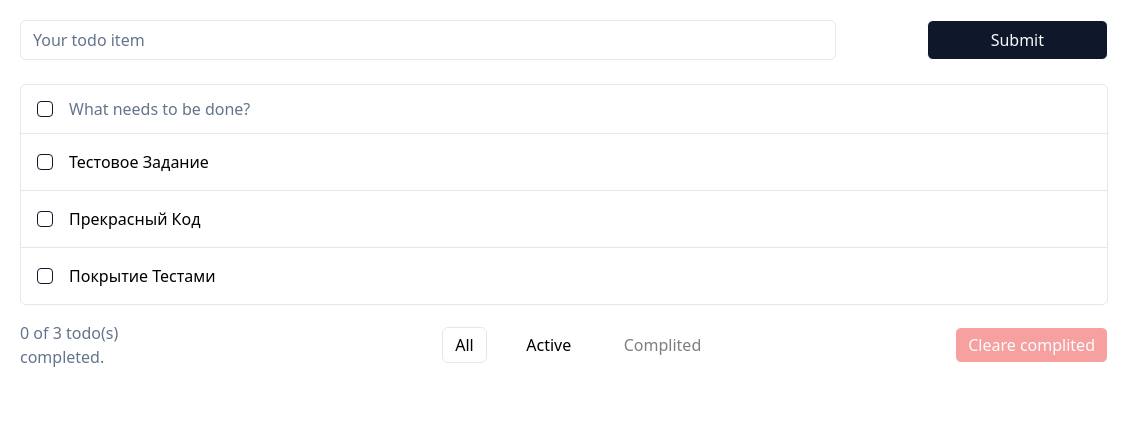
Test: Todo App › Проверка отображения новай задачи
Type "Новая задача" into the field with placeholder "Your todo item".
click(428, 40); type("Новая задача")  # box [20,20,836,60]
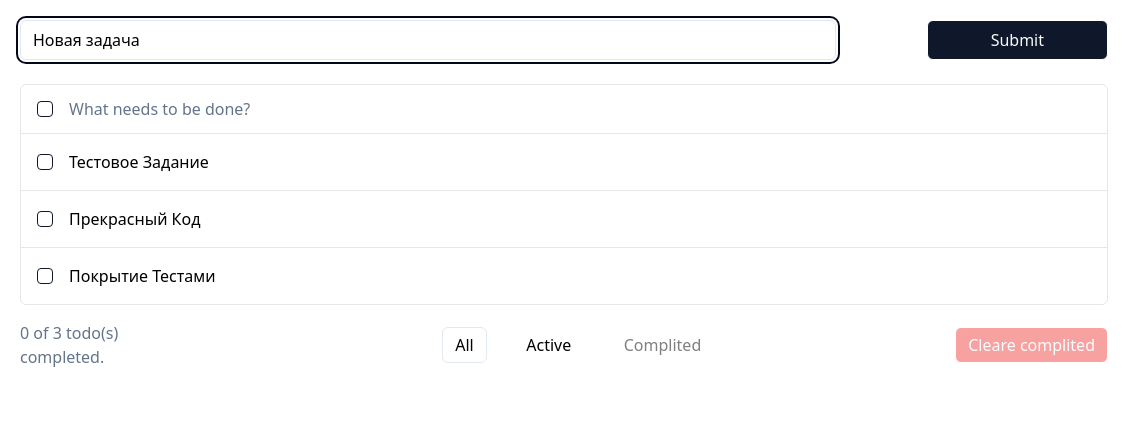
Click the button "Submit".
click(1017, 40)  # box [927,20,1108,60]
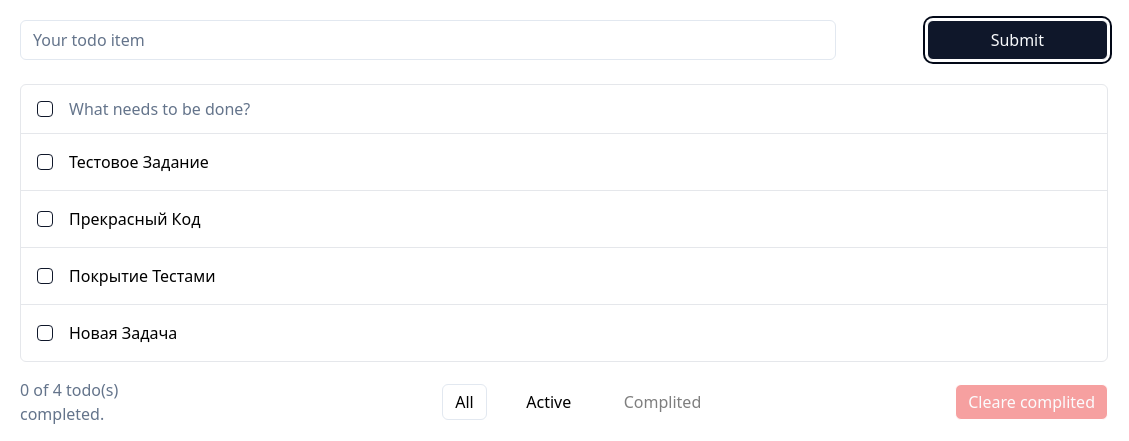
Expected: the text "Новая задача" is shown, [69,320,177,344]
